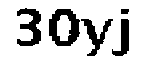0: (48, 4, 81, 48)
3: (9, 5, 43, 52)
j: (113, 7, 140, 60)
y: (82, 15, 113, 60)
